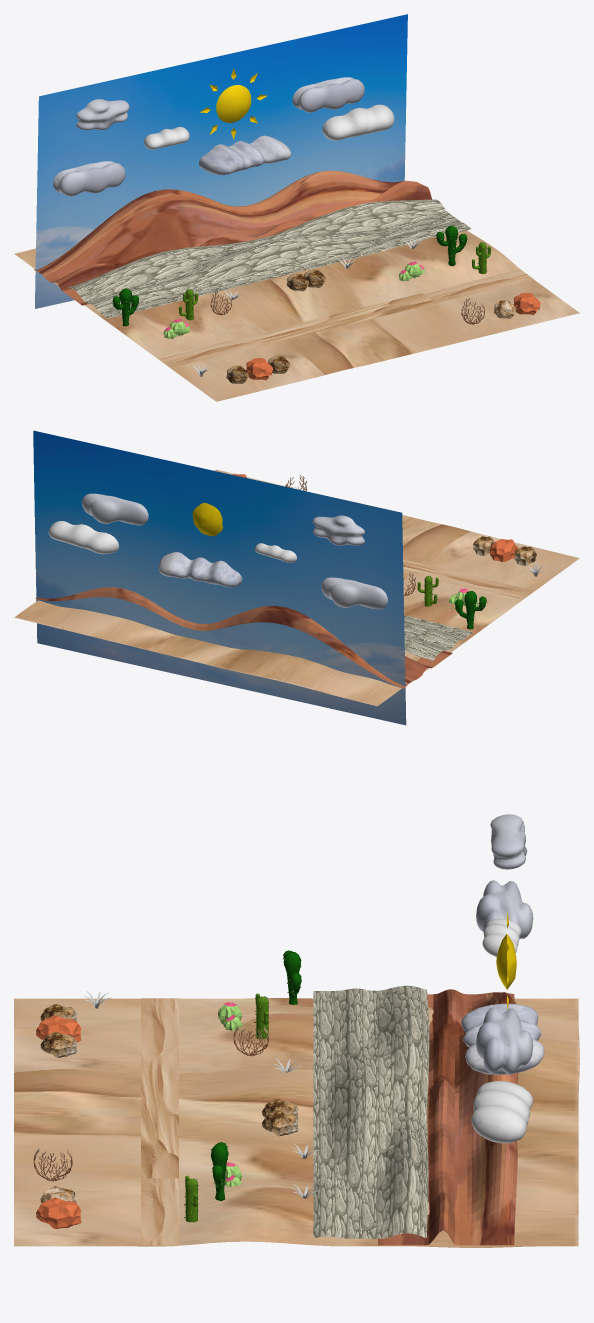
The picture shows the model from 3 angles, top to bottom: view 1: azimuth 30°, elevation 25°; view 2: azimuth 150°, elevation 25°; view 3: azimuth 270°, elevation 25°; orthographic projection. The views are drawn at different scales.
Parts seen in each view (by area): view 1: cielo, arena, montaña gris, montaña marron, eial, NUBE 2, NUBE 6, NUBE 4, NUBE 3, NUBE 1, roca 3, Object_2.004 (+5 smaller); view 2: cielo, arena, montaña marron, montaña gris, NUBE 2, eial, NUBE 6, NUBE 4, NUBE 3, NUBE 1, roca 3, Object_2.004 (+3 smaller); view 3: arena, montaña gris, montaña marron, eial, NUBE 3, NUBE 4, NUBE 2, NUBE 6, roca 3, NUBE 1, roca 2, roca 1 (+4 smaller).
Part boxes in pixels (left/top/right/bottom): cielo: left=35, top=14, right=407, bottom=308; arena: left=14, top=230, right=579, bottom=401; montaña gris: left=68, top=199, right=471, bottom=318; montaña marron: left=34, top=170, right=432, bottom=305; eial: left=158, top=269, right=533, bottom=367; NUBE 2: left=199, top=135, right=291, bottom=175; NUBE 6: left=53, top=161, right=125, bottom=196; NUBE 4: left=292, top=77, right=364, bottom=112; NUBE 3: left=322, top=104, right=394, bottom=140; NUBE 1: left=76, top=99, right=129, bottom=130; roca 3: left=226, top=355, right=289, bottom=383; Object_2.004: left=216, top=85, right=251, bottom=122; cielo: left=33, top=430, right=406, bottom=725; arena: left=14, top=469, right=579, bottom=706; montaña marron: left=35, top=587, right=452, bottom=688; montaña gris: left=404, top=615, right=473, bottom=660; NUBE 2: left=159, top=552, right=242, bottom=587; eial: left=403, top=559, right=533, bottom=600; NUBE 6: left=321, top=577, right=387, bottom=609; NUBE 4: left=81, top=493, right=148, bottom=525; NUBE 3: left=48, top=521, right=118, bottom=554; NUBE 1: left=312, top=515, right=364, bottom=545; roca 3: left=473, top=536, right=536, bottom=565; Object_2.004: left=192, top=503, right=223, bottom=536; arena: left=14, top=998, right=579, bottom=1247; montaña gris: left=313, top=985, right=429, bottom=1238; montaña marron: left=378, top=989, right=518, bottom=1245; eial: left=141, top=998, right=178, bottom=1245; NUBE 3: left=471, top=1081, right=533, bottom=1143; NUBE 4: left=476, top=1007, right=533, bottom=1074; NUBE 2: left=461, top=1003, right=544, bottom=1074; NUBE 6: left=476, top=880, right=533, bottom=938; roca 3: left=36, top=1004, right=81, bottom=1057; NUBE 1: left=490, top=814, right=527, bottom=869; roca 2: left=36, top=1186, right=81, bottom=1228; roca 1: left=262, top=1099, right=298, bottom=1136.
Bounding box in the file's own units: 1734 × 970 × 1625.
